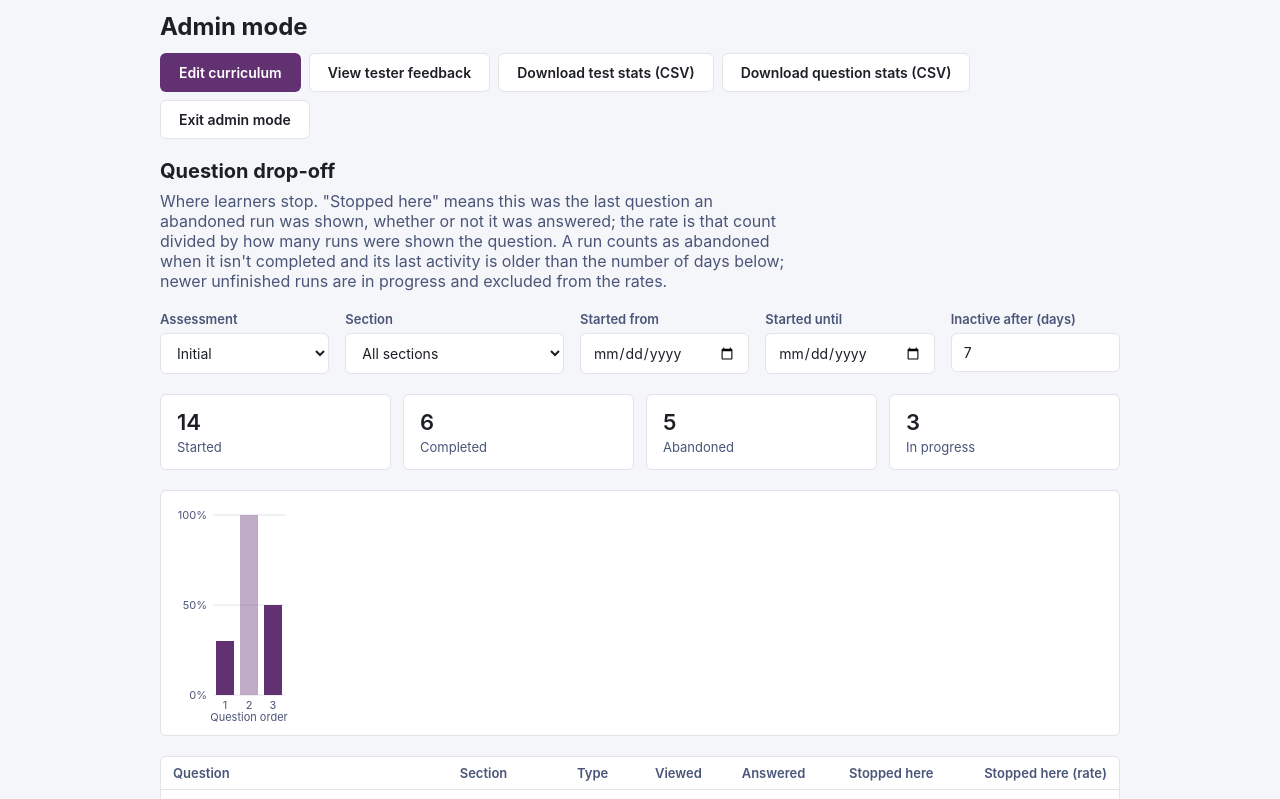
Scenario: AdminPage downloads › shows an error, not a crash, when the download fails
The width and height of the screenshot is (1280, 799).
Expected: the heading "Admin mode" is shown, [160, 12, 308, 41]
Click the button "Download test stats (CSV)". click: click(606, 72)
box: [498, 53, 714, 92]
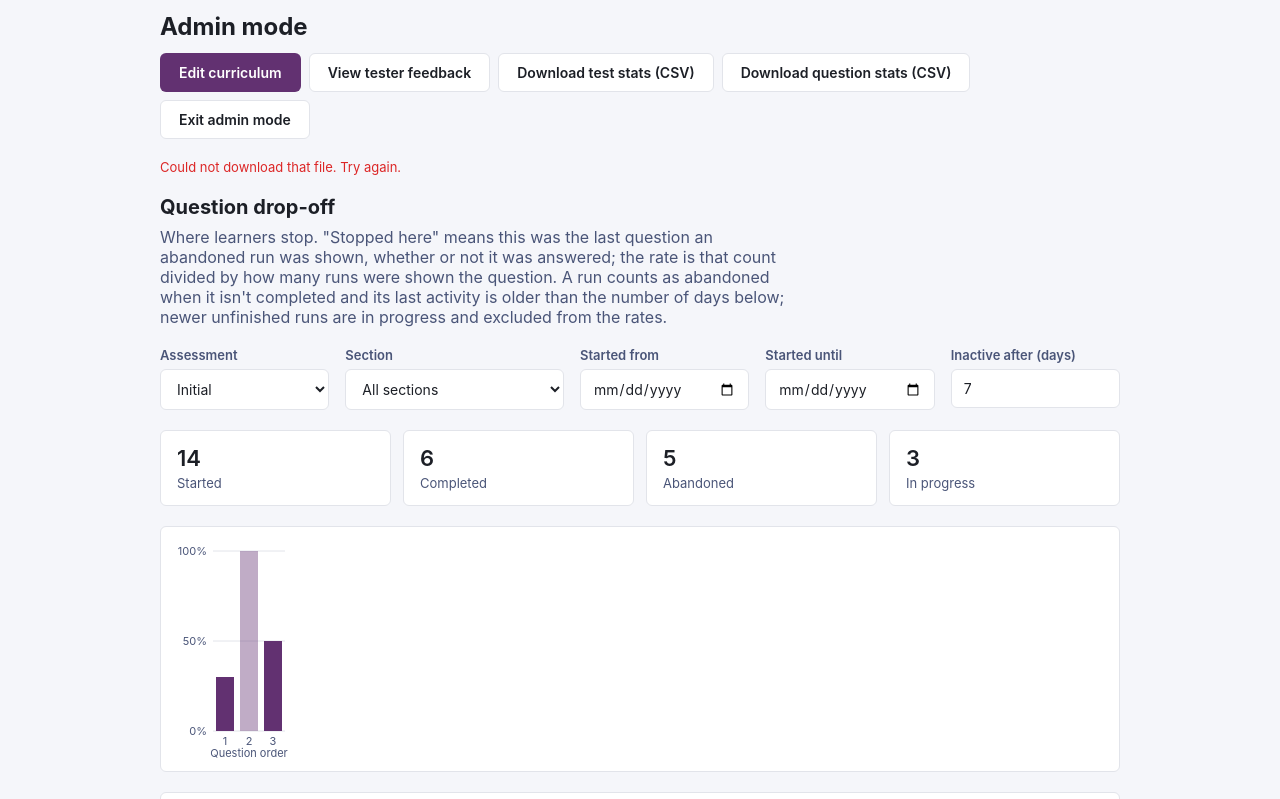
Now the text "Could not download that file. Try again." is shown, box [160, 159, 401, 175]
